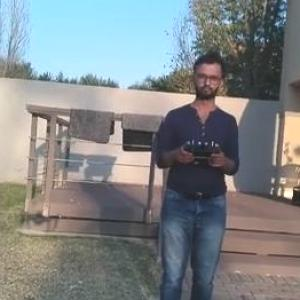follow: (144, 46, 243, 299)
